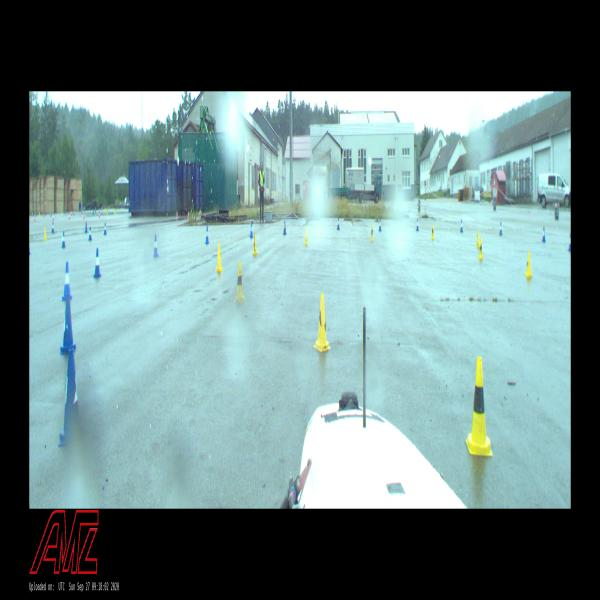blue_cone: (58, 347, 86, 445), (60, 294, 76, 354), (62, 261, 72, 301), (94, 247, 101, 278), (153, 235, 159, 257), (60, 231, 66, 248), (205, 226, 210, 244), (542, 226, 546, 242), (250, 222, 254, 237), (282, 220, 286, 235), (568, 232, 571, 251), (499, 221, 503, 235), (103, 223, 107, 235), (378, 219, 382, 231), (89, 227, 92, 240), (416, 218, 419, 231), (460, 220, 463, 232), (337, 218, 340, 229), (52, 221, 54, 233), (85, 222, 87, 233)
orange_cone: (187, 210, 189, 218), (176, 210, 178, 218), (198, 210, 200, 218), (83, 213, 85, 219), (69, 213, 70, 219), (34, 215, 35, 221)
yellow_cone: (465, 356, 493, 455), (313, 293, 331, 351), (234, 261, 246, 302), (215, 243, 223, 271), (525, 249, 532, 277), (477, 237, 484, 259), (252, 232, 258, 256), (304, 227, 309, 245), (476, 229, 480, 248), (370, 225, 374, 241), (431, 224, 435, 238), (43, 228, 47, 240)
